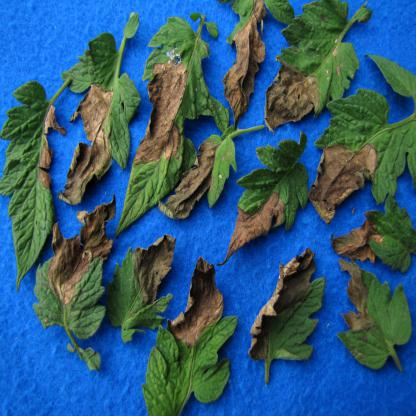Tomato leaf late blight: (121, 18, 205, 227), (138, 260, 236, 416), (33, 196, 120, 368), (60, 17, 138, 208), (263, 3, 369, 128), (1, 73, 63, 280), (244, 245, 327, 374), (226, 137, 313, 249), (96, 232, 187, 336), (338, 257, 411, 379), (157, 129, 251, 223), (329, 207, 416, 267)
